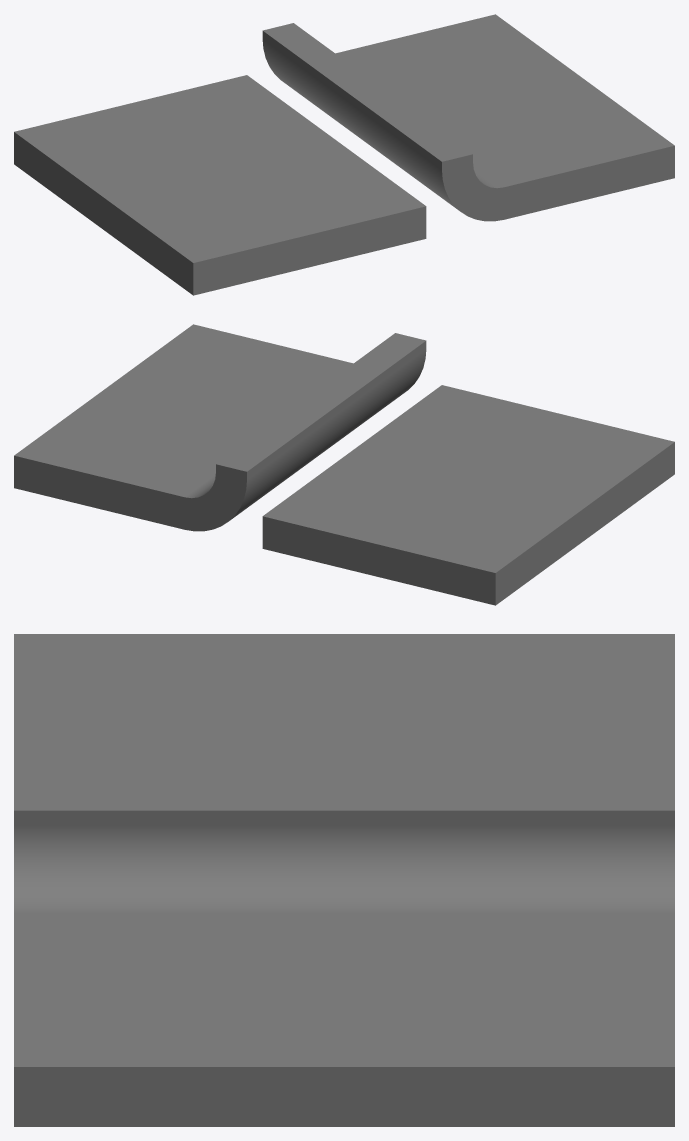
The model's file is С3_Кромки.glb.
3 views of the same model, one above another, from view 1: azimuth 30°, elevation 25°; view 2: azimuth 150°, elevation 25°; view 3: azimuth 270°, elevation 25° (orthographic). The views are drawn at different scales.
Visible parts, largest first — view 1: node_id3; view 2: node_id3; view 3: node_id3.
Boxes of the visible parts, x1,y1,x2,y2 form: node_id3: (14,14,674,295); node_id3: (14,324,674,605); node_id3: (14,634,674,1126).
Bounding box in the file's own units: 0.512 × 0.0743 × 0.3303.
1 material, 1 textured.
